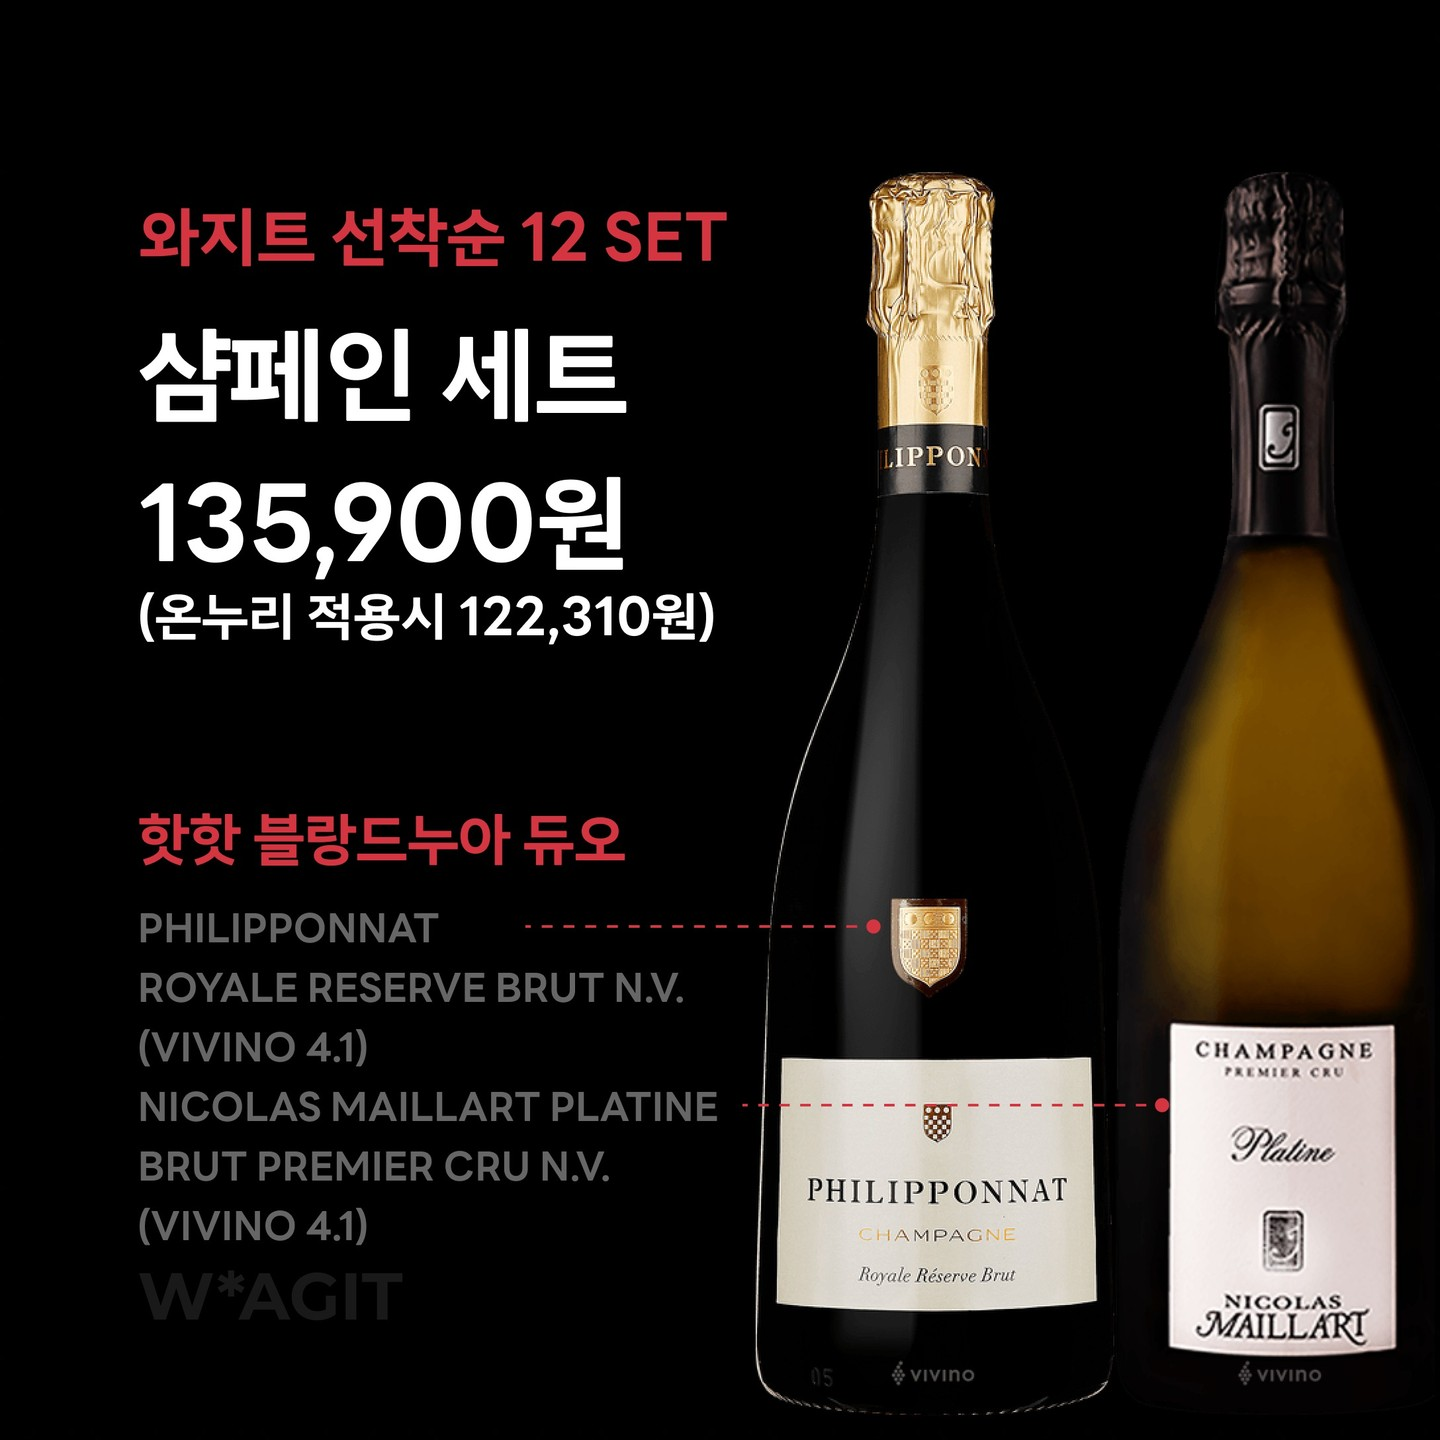alcohol: (742, 160, 1126, 1429), (1100, 160, 1440, 1431)
